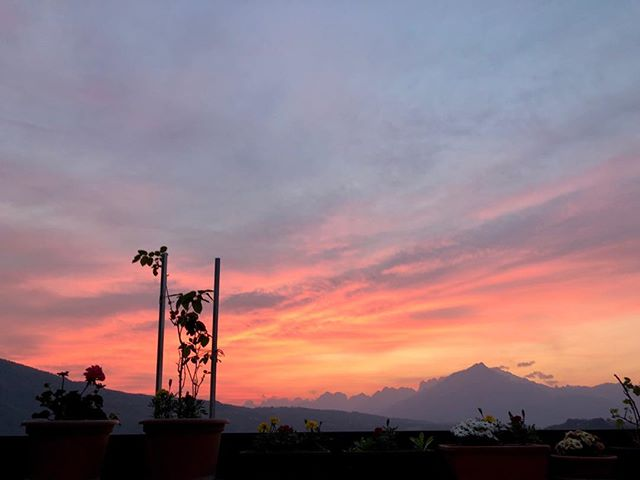flowers: (140, 241, 227, 417), (20, 357, 119, 420)
mountain: (405, 346, 577, 396)
sky: (13, 1, 640, 364)
